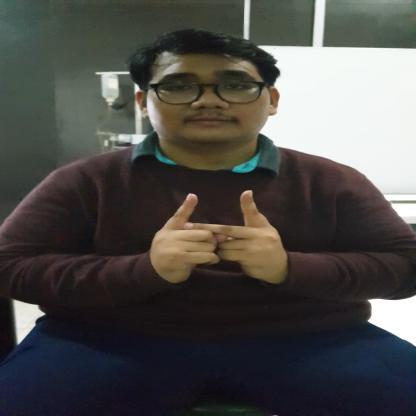H: (146, 188, 290, 282)
